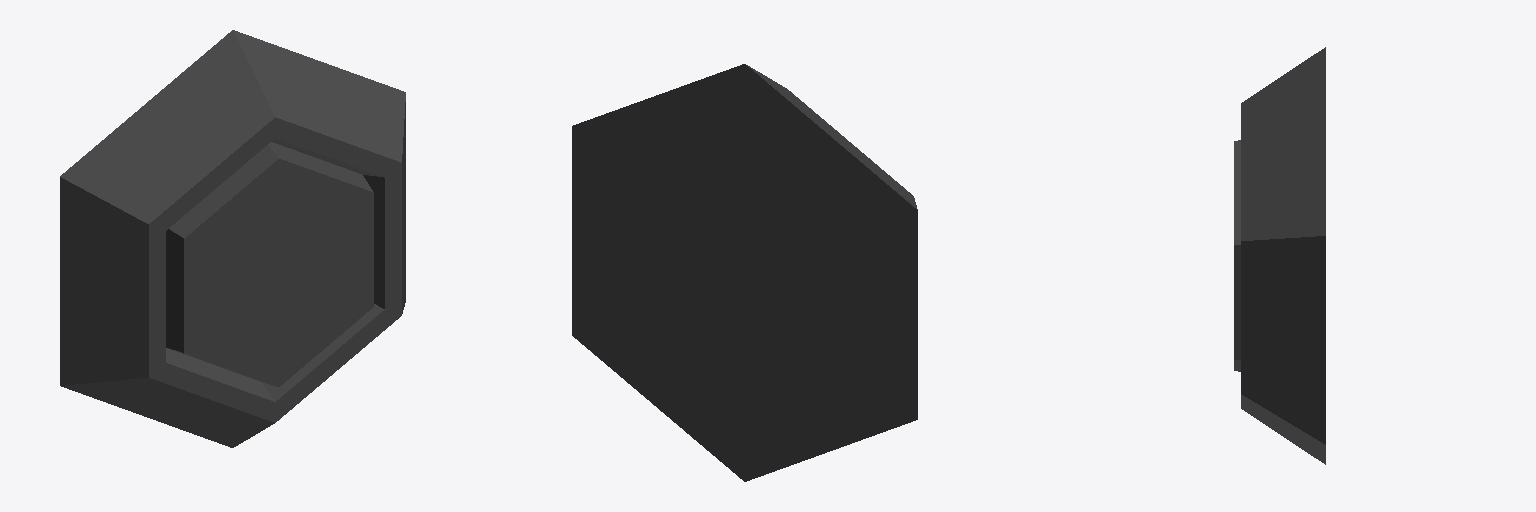
File: Details_Hexagon.obj
3 renders of one model, left to right at view 1: azimuth 30°, elevation 25°; view 2: azimuth 150°, elevation 25°; view 3: azimuth 270°, elevation 25°, orthographic.
Visible parts, largest first — view 1: Details_Hexagon_Cube.049; view 2: Details_Hexagon_Cube.049; view 3: Details_Hexagon_Cube.049.
Boxes of the visible parts, x1,y1,x2,y2 form: Details_Hexagon_Cube.049: [60, 30, 405, 447]; Details_Hexagon_Cube.049: [572, 64, 917, 481]; Details_Hexagon_Cube.049: [1234, 47, 1325, 464].
Bounding box in the file's own units: 0.3415 × 0.3944 × 0.079.